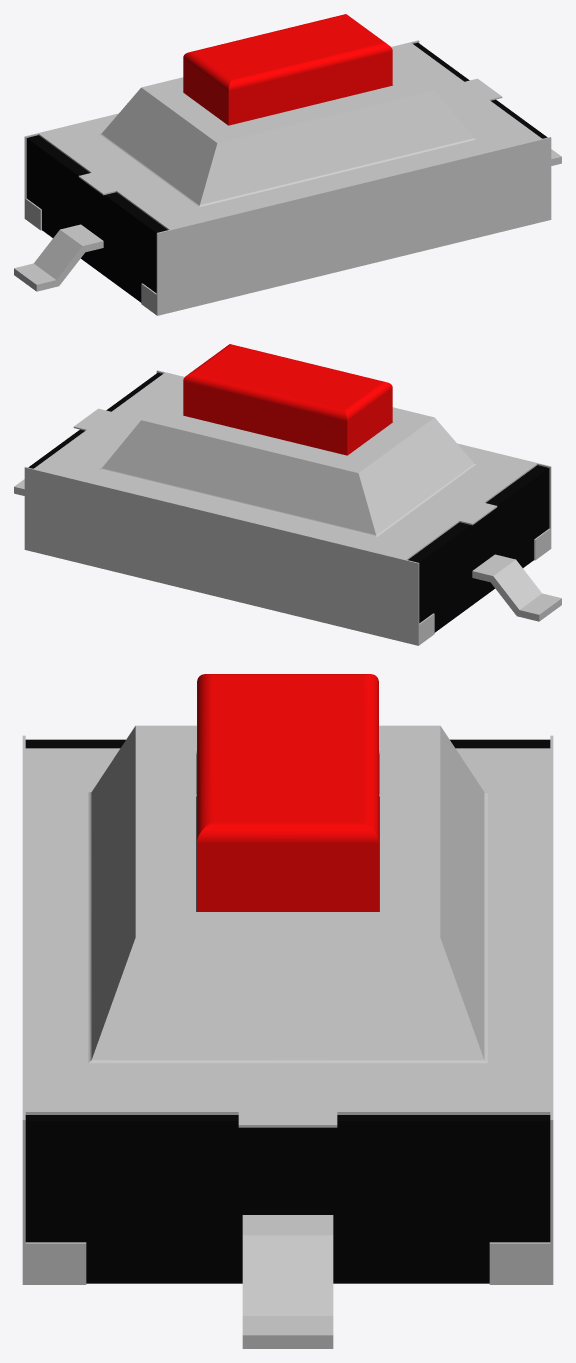
The model's file is kc-sw_spst_ck_rs282g05a3.glb.
The picture shows the model from 3 angles, top to bottom: view 1: azimuth 30°, elevation 25°; view 2: azimuth 150°, elevation 25°; view 3: azimuth 270°, elevation 25°; orthographic projection. The views are drawn at different scales.
Parts seen in each view (by area): view 1: 0.5833333333333334_0.5833333333333334_0.5833333333333334_0.8, 1_0_0_0, 0_0_0_0; view 2: 0.5833333333333334_0.5833333333333334_0.5833333333333334_0.8, 1_0_0_0, 0_0_0_0; view 3: 0.5833333333333334_0.5833333333333334_0.5833333333333334_0.8, 0_0_0_0, 1_0_0_0.
Boxes of the visible parts, x1,y1,x2,y2 form: 0.5833333333333334_0.5833333333333334_0.5833333333333334_0.8: (14, 40, 561, 315); 1_0_0_0: (183, 14, 392, 125); 0_0_0_0: (26, 42, 547, 302); 0.5833333333333334_0.5833333333333334_0.5833333333333334_0.8: (14, 370, 561, 645); 1_0_0_0: (183, 344, 392, 455); 0_0_0_0: (28, 372, 549, 632); 0.5833333333333334_0.5833333333333334_0.5833333333333334_0.8: (22, 725, 553, 1348); 0_0_0_0: (25, 739, 550, 1283); 1_0_0_0: (197, 674, 378, 911).
Size of the model in its own units: 0.8 by 0.25 by 0.35.
